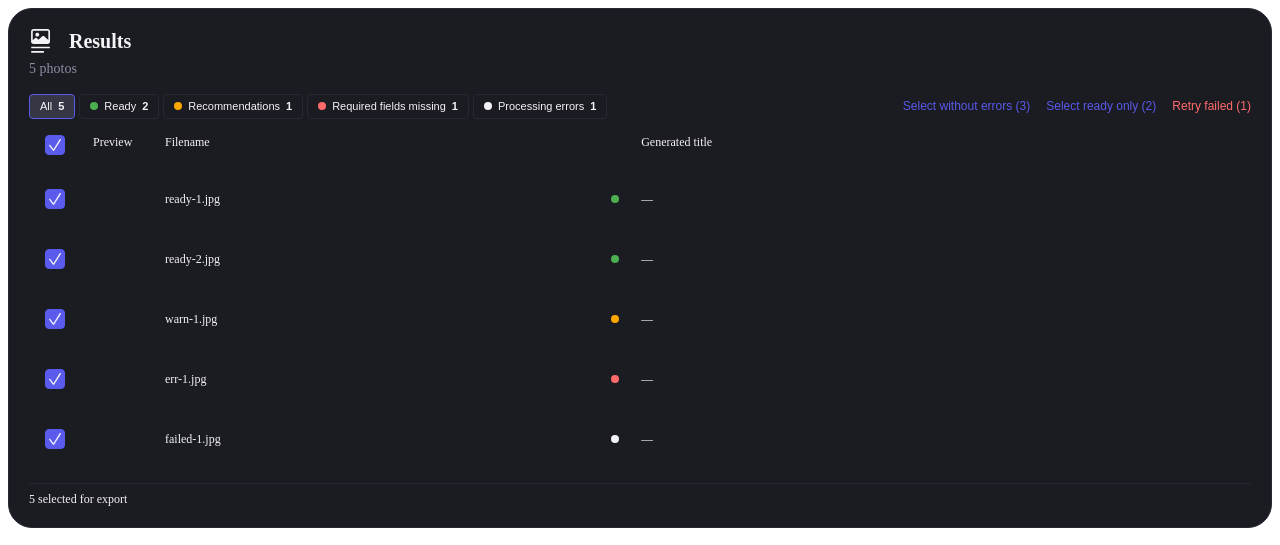
Test: клик по группе сужает список результатов, сброс возвращает все
Step 1. Click the button with aria-label "Required fields missing (1)" → (388, 106), box [307,94,469,119]
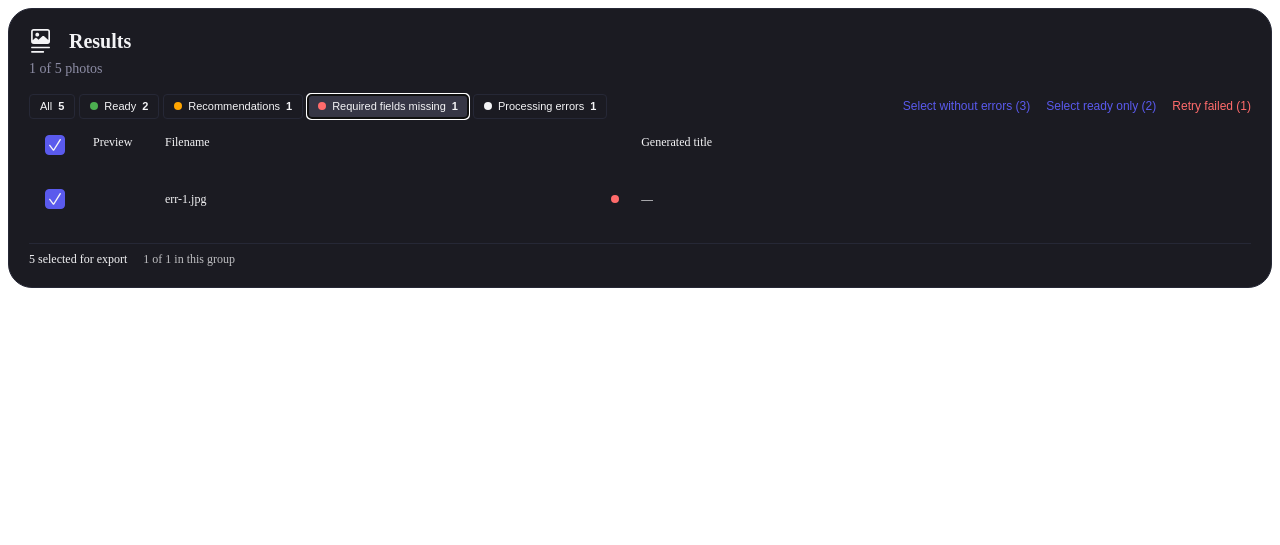
Expected: the text "err-1.jpg" is shown, [165,192,206,206]
Now the button "ready-1.jpg" is gone
Now the text "1 of 5 photos" is shown, box [29,61,102,76]
Step 2. Click the button with aria-label "All (5)" → (52, 106), box [29,94,75,119]
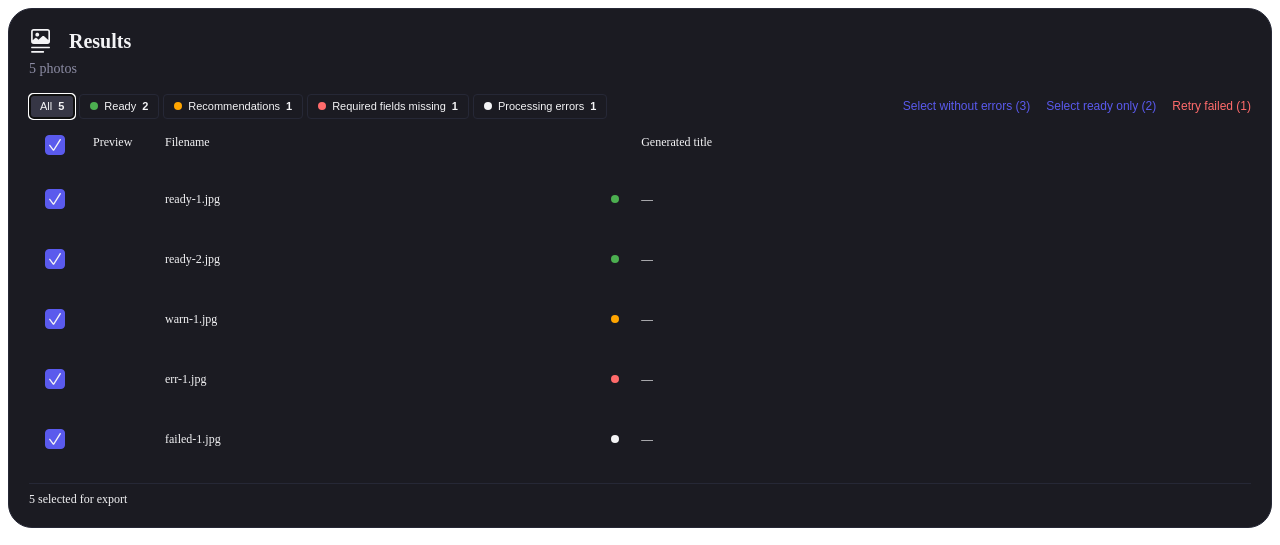
Expected: the text "5 photos" is shown, [29,61,77,76]
Now the text "ready-1.jpg" is shown, box [165,192,220,206]
